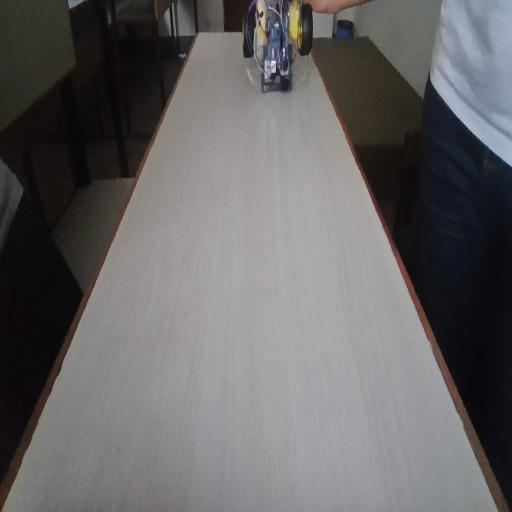car: (246, 0, 310, 79)
